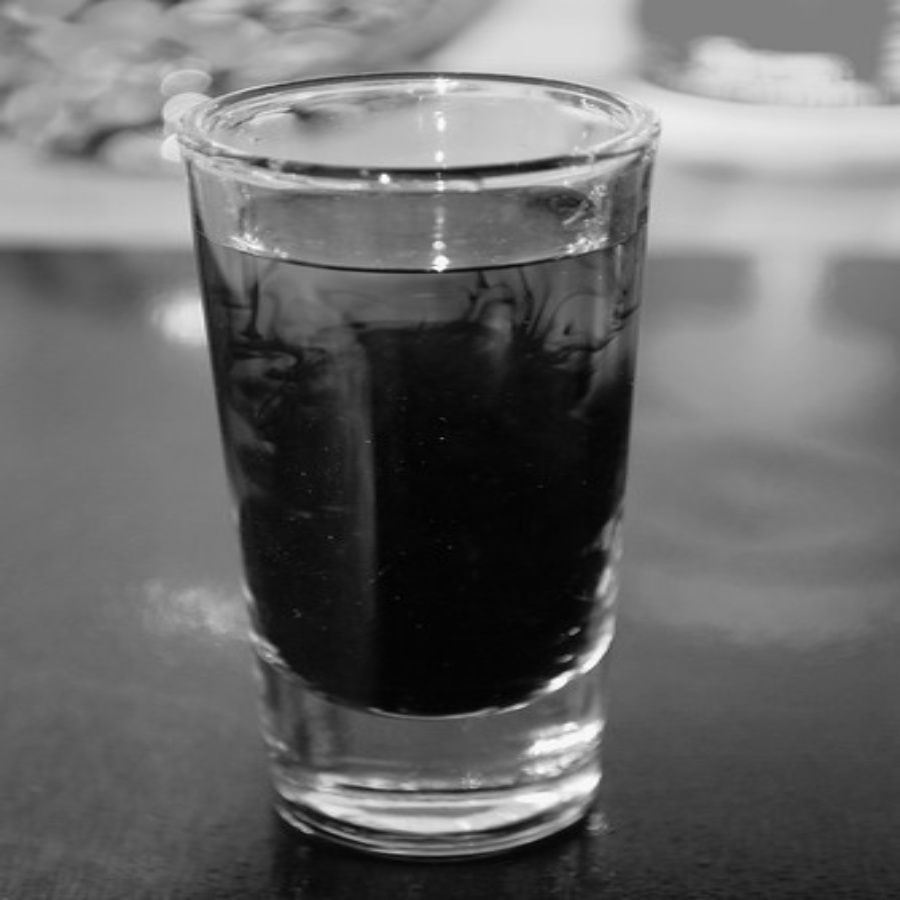whiskey: (224, 70, 654, 857)
